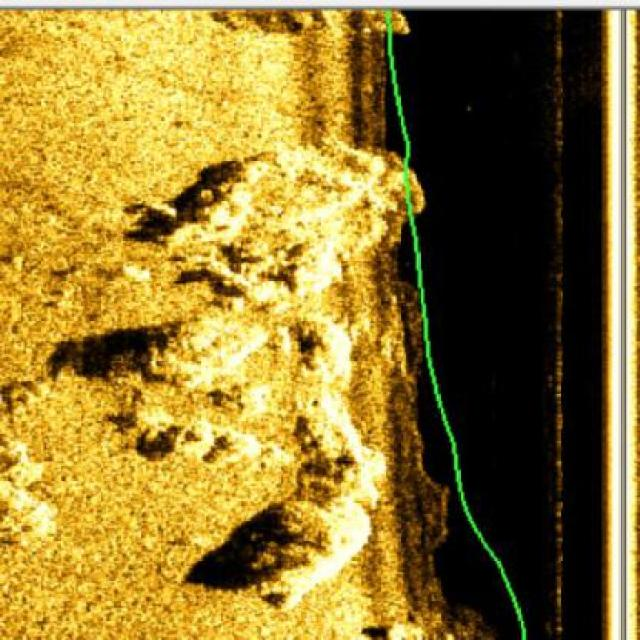bedrock group: (124, 119, 422, 593)
